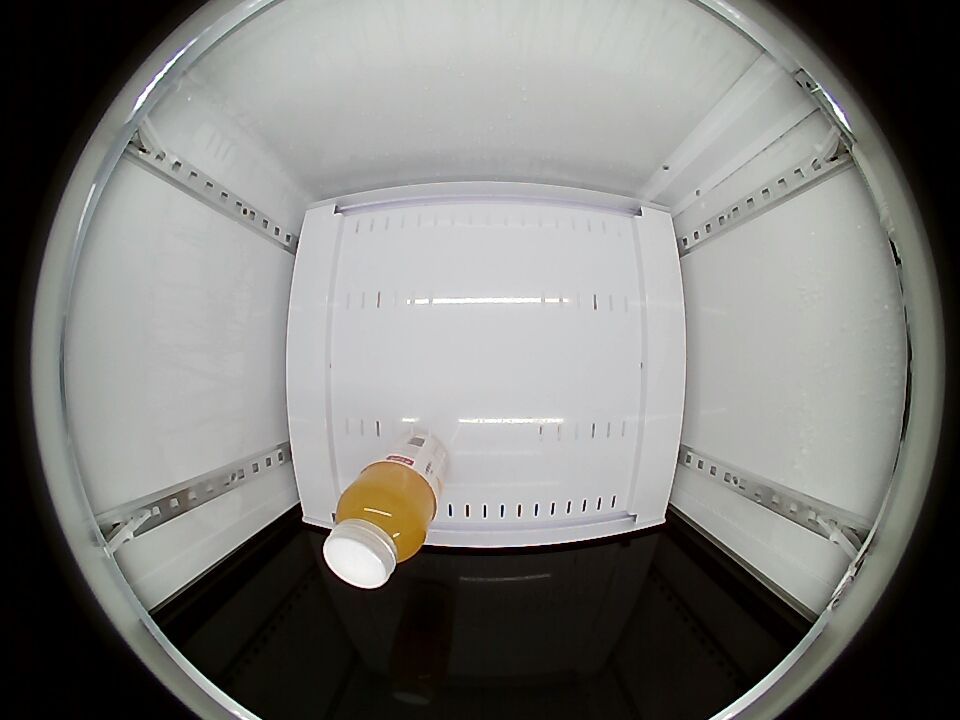weic: (324, 461, 438, 589)
